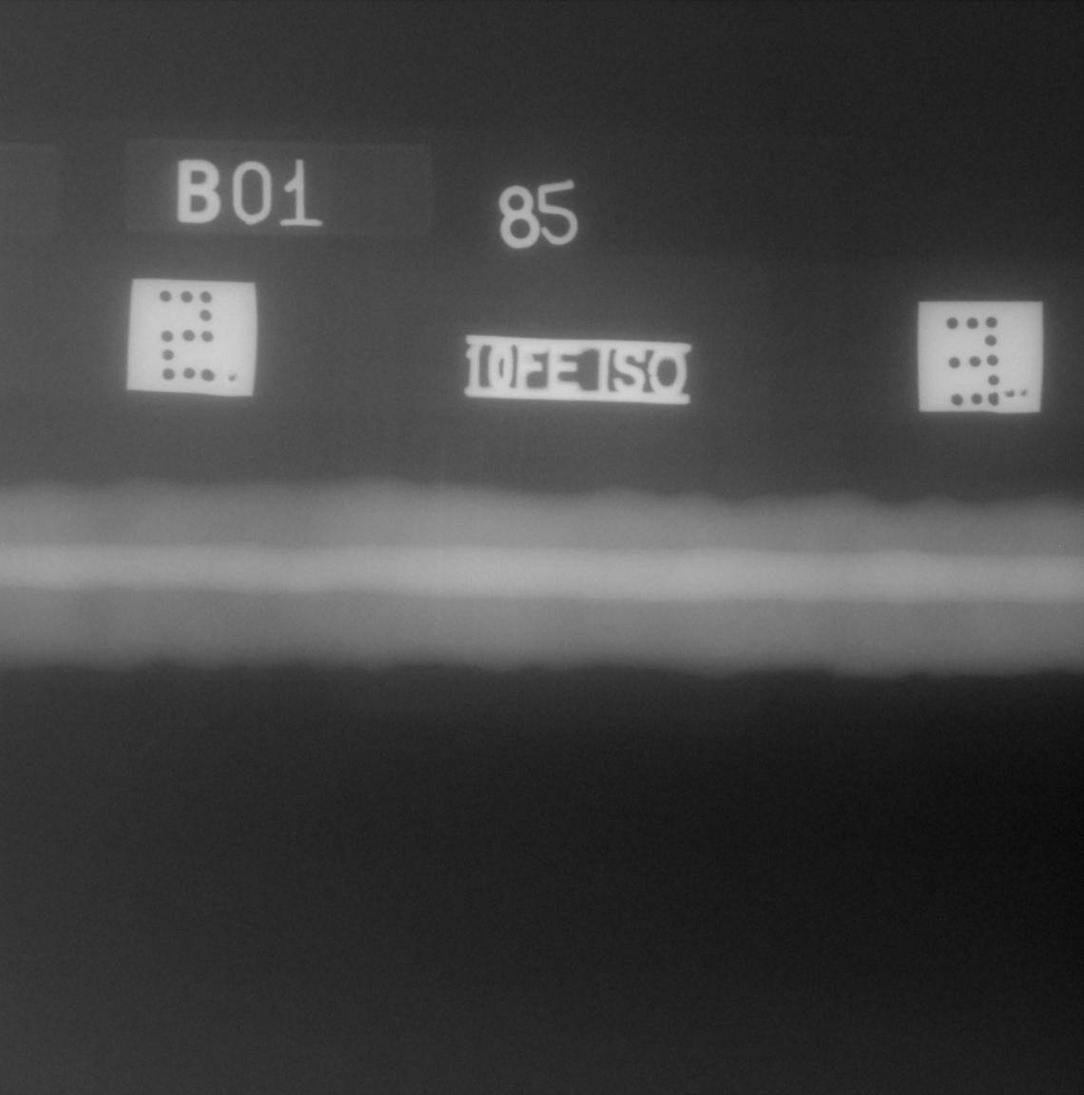Pore/Porosity: (131, 565, 139, 572), (708, 582, 714, 589), (684, 592, 691, 597)
